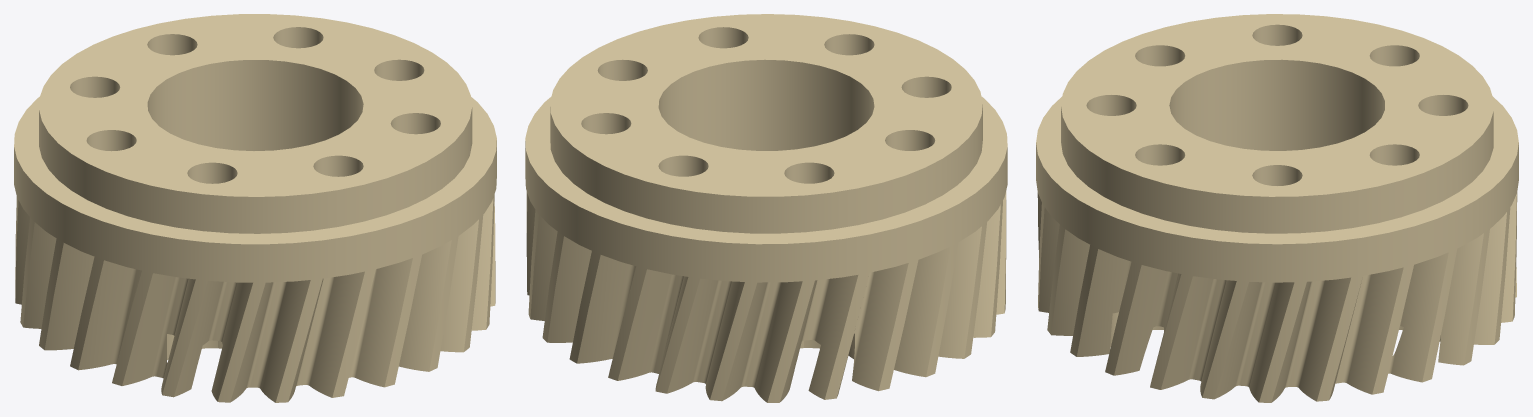
File: EngraneUnion.gltf
3 renders of one model, left to right at view 1: azimuth 30°, elevation 25°; view 2: azimuth 150°, elevation 25°; view 3: azimuth 270°, elevation 25°, orthographic.
Visible parts, largest first — view 1: EngraneServo; view 2: EngraneServo; view 3: EngraneServo.
Part boxes in pixels (x1,y1,x2,y2): EngraneServo: (14, 14, 496, 402); EngraneServo: (525, 14, 1007, 402); EngraneServo: (1036, 14, 1518, 402).
Bounding box in the file's own units: 0.0291 × 0.013 × 0.0291.
